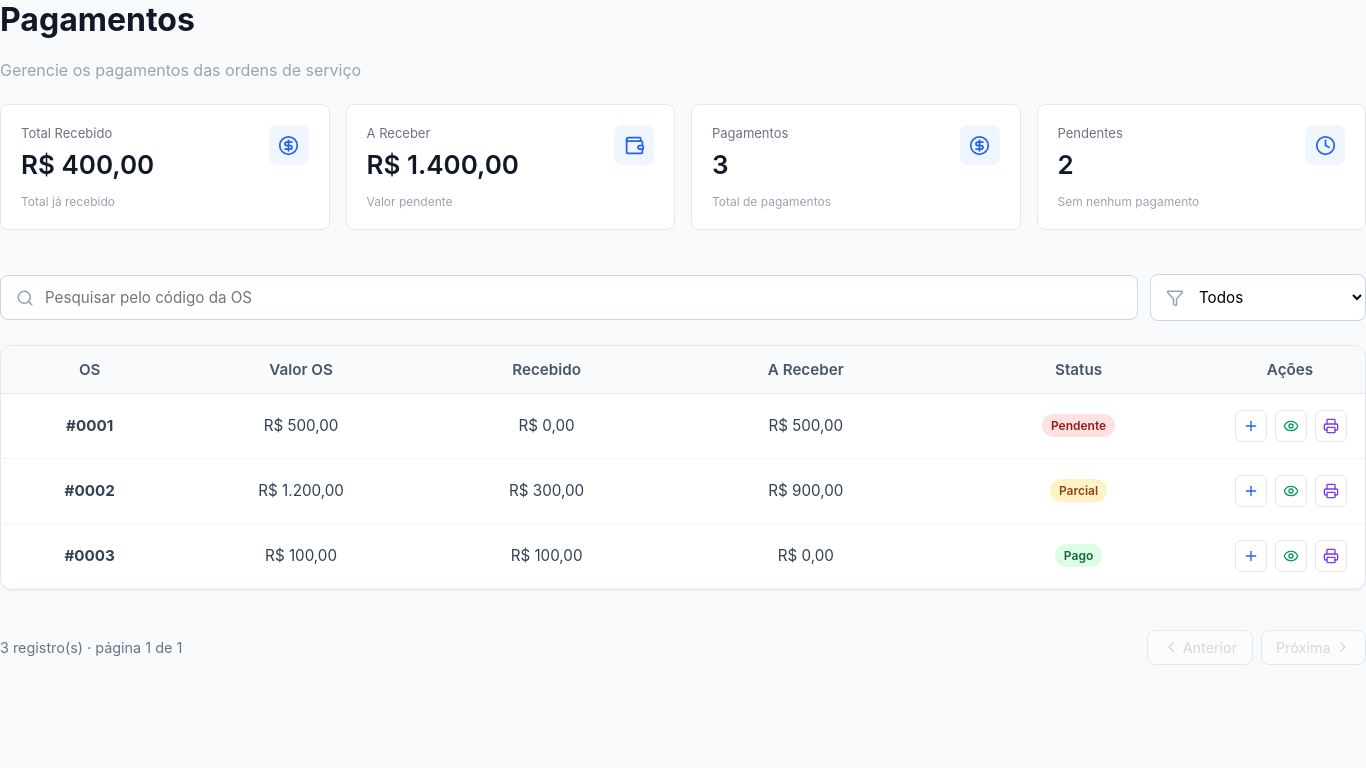
Scenario: Página de Pagamentos › registrar pagamento › abre o modal com o título da OS
The image size is (1366, 768).
Expected: the text "#0001" is shown, [66,416,113,435]
Click the button titled "Registrar Pagamento" in the row of "0001". click: (1251, 426)
box: [1235,410,1267,442]
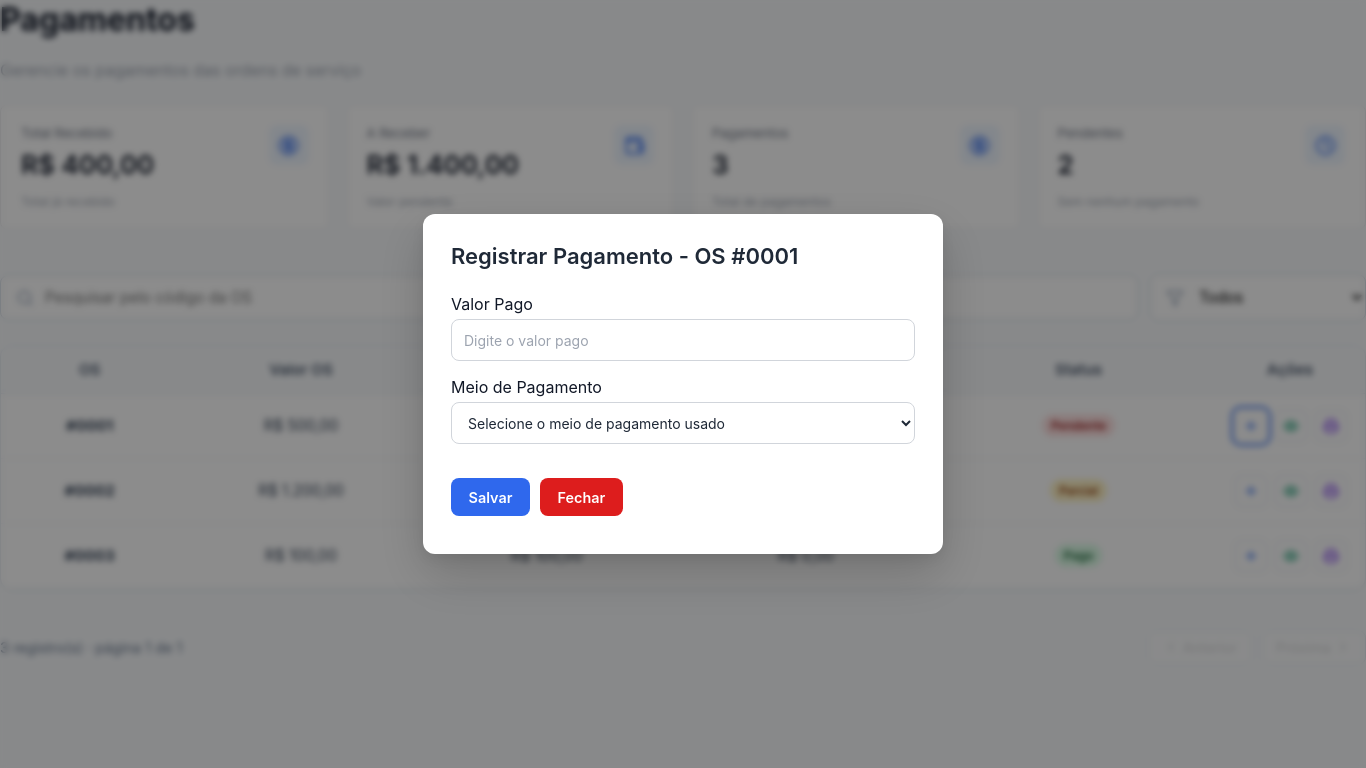
Expected: the heading "Registrar Pagamento - OS #0001" is shown, [451,243,798,269]
